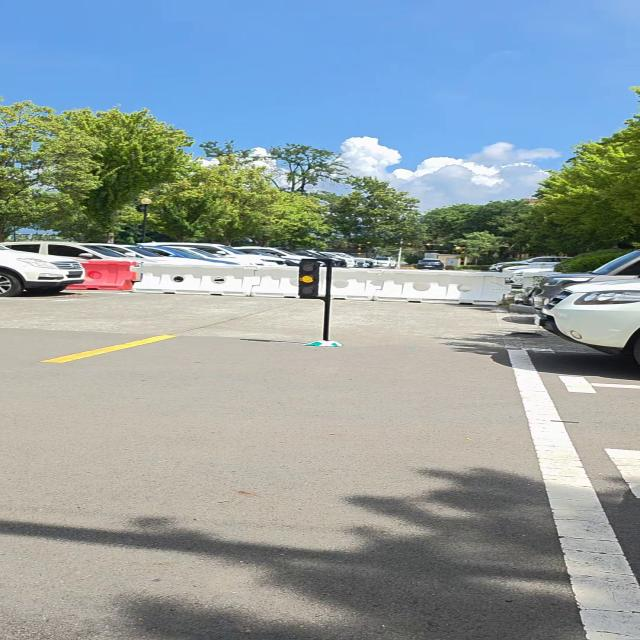yellow: (297, 261, 321, 298)
